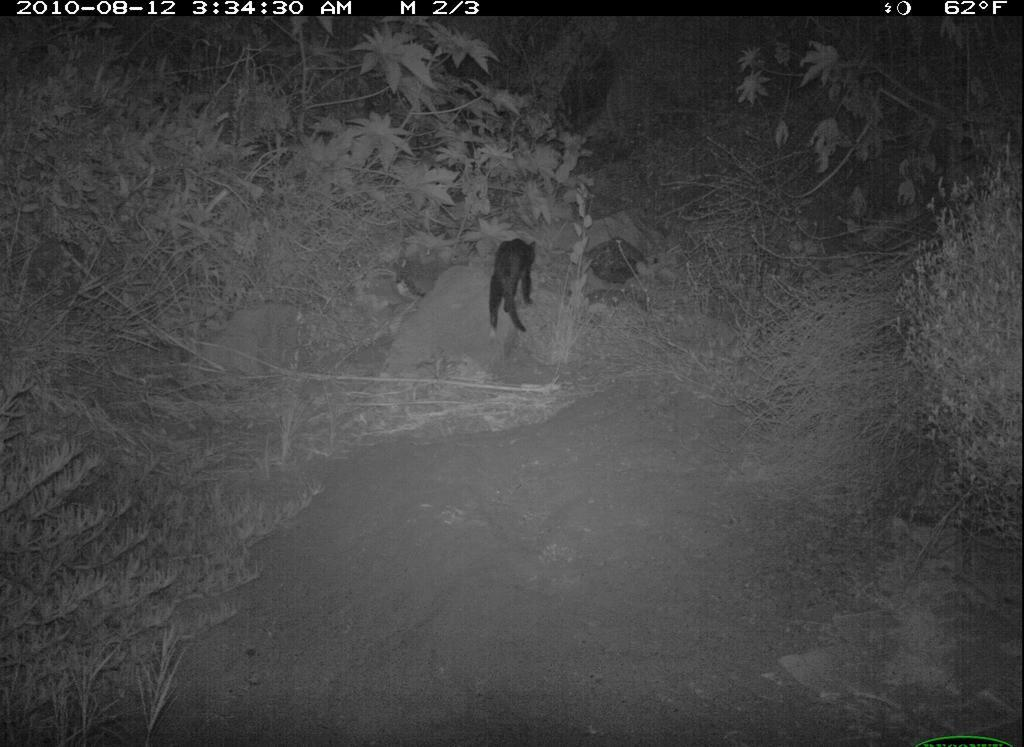cat: (481, 221, 546, 345)
